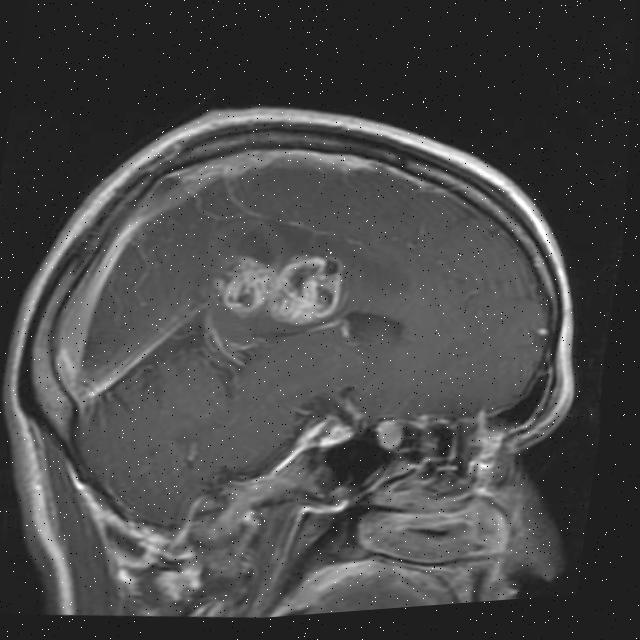Glioma: (204, 242, 349, 333)
